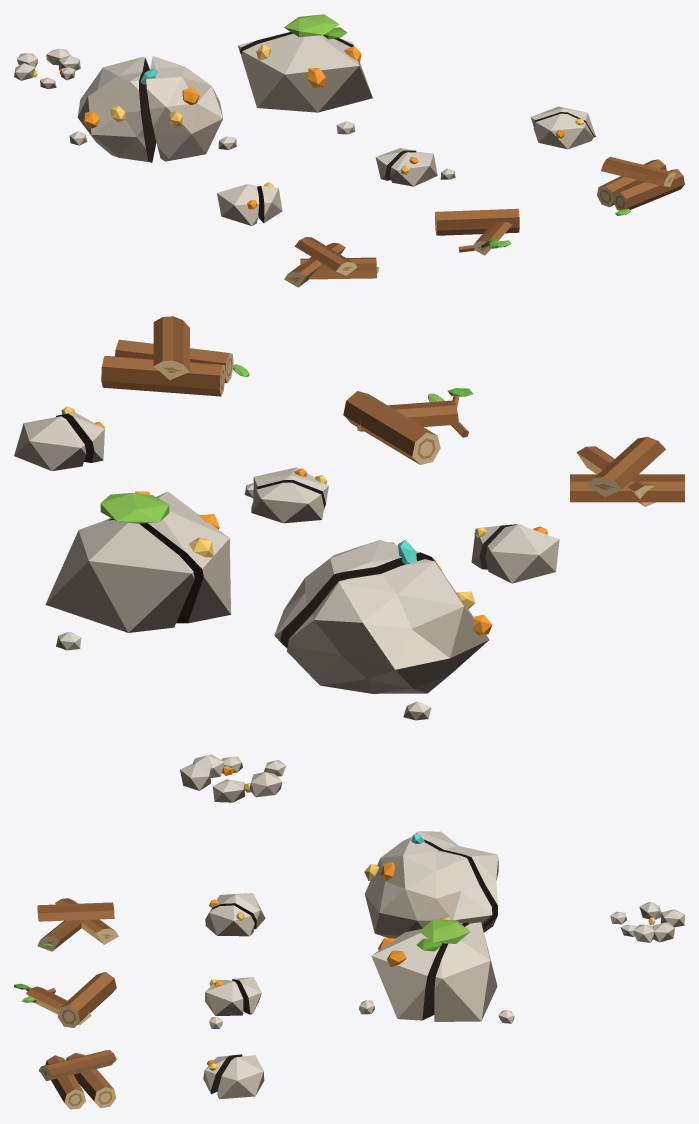
File: debris.glb
3 views of the same model, one above another, from view 1: azimuth 30°, elevation 25°; view 2: azimuth 150°, elevation 25°; view 3: azimuth 270°, elevation 25° (orthographic). The views are drawn at different scales.
Visible parts, largest first — view 1: Deb_boulder_0_mesh, Deb_boulder_1_mesh, Deb_twig_2_mesh, Deb_twig_1_mesh, Deb_twig_0_mesh, Deb_stone_0_mesh, Deb_stone_2_mesh, Deb_stone_1_mesh, Deb_rubble_mesh; view 2: Deb_boulder_0_mesh, Deb_boulder_1_mesh, Deb_twig_2_mesh, Deb_twig_0_mesh, Deb_twig_1_mesh, Deb_stone_2_mesh, Deb_stone_0_mesh, Deb_stone_1_mesh, Deb_rubble_mesh; view 3: Deb_boulder_0_mesh, Deb_boulder_1_mesh, Deb_twig_2_mesh, Deb_twig_0_mesh, Deb_twig_1_mesh, Deb_stone_2_mesh, Deb_stone_0_mesh, Deb_stone_1_mesh, Deb_rubble_mesh.
Part boxes in pixels (x1,y1,x2,y2): Deb_boulder_0_mesh: [69, 56, 236, 162]; Deb_boulder_1_mesh: [238, 14, 372, 134]; Deb_twig_2_mesh: [597, 157, 684, 215]; Deb_twig_1_mesh: [435, 208, 519, 255]; Deb_twig_0_mesh: [284, 237, 378, 287]; Deb_stone_0_mesh: [217, 182, 282, 225]; Deb_stone_2_mesh: [530, 106, 596, 149]; Deb_stone_1_mesh: [375, 148, 455, 186]; Deb_rubble_mesh: [14, 48, 80, 89]; Deb_boulder_0_mesh: [274, 539, 492, 720]; Deb_boulder_1_mesh: [45, 491, 230, 650]; Deb_twig_2_mesh: [101, 316, 249, 396]; Deb_twig_0_mesh: [570, 436, 684, 506]; Deb_twig_1_mesh: [343, 388, 472, 464]; Deb_stone_2_mesh: [14, 406, 104, 470]; Deb_stone_0_mesh: [471, 524, 559, 583]; Deb_stone_1_mesh: [244, 467, 328, 523]; Deb_rubble_mesh: [180, 754, 286, 802]; Deb_boulder_0_mesh: [364, 831, 498, 938]; Deb_boulder_1_mesh: [359, 917, 514, 1023]; Deb_twig_2_mesh: [39, 1050, 116, 1109]; Deb_twig_0_mesh: [37, 898, 118, 951]; Deb_twig_1_mesh: [14, 972, 116, 1027]; Deb_stone_2_mesh: [203, 1054, 264, 1099]; Deb_stone_0_mesh: [205, 893, 265, 936]; Deb_stone_1_mesh: [205, 977, 261, 1028]; Deb_rubble_mesh: [610, 902, 684, 942].
Size of the model in its own units: 3.28 by 0.6581 by 4.28.
